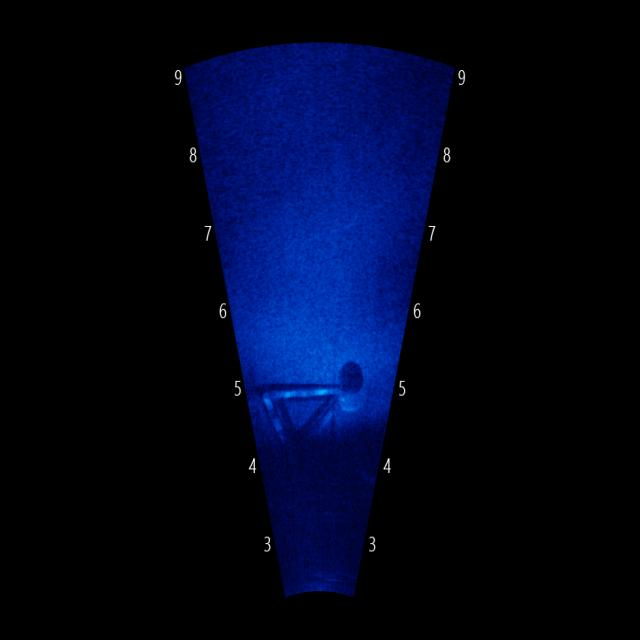triangle: (259, 375, 354, 466)
